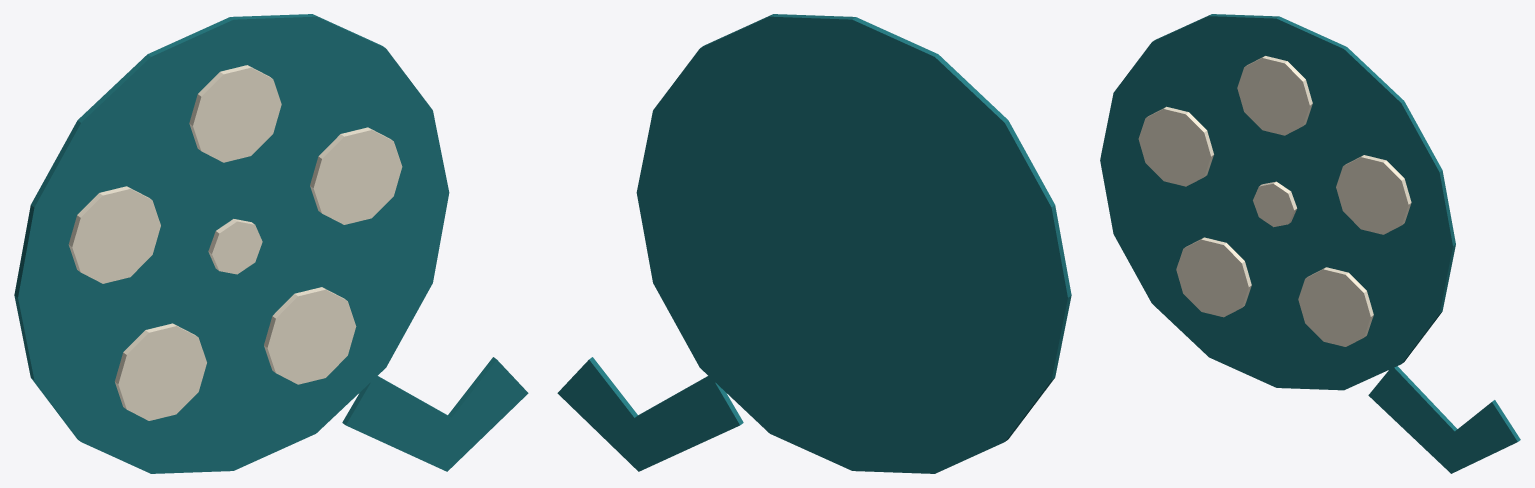
The model's file is icon_cinema.glb.
3 views of the same model, side by side, from view 1: azimuth 30°, elevation 25°; view 2: azimuth 150°, elevation 25°; view 3: azimuth 330°, elevation 25° (orthographic). The views are drawn at different scales.
Visible parts, largest first — view 1: icon_cinema; view 2: icon_cinema; view 3: icon_cinema.
Part boxes in pixels (<box>): icon_cinema: <box>14,14,528,473</box>; icon_cinema: <box>557,14,1071,473</box>; icon_cinema: <box>1100,14,1520,473</box>.
Bounding box in the file's own units: 0.4025 × 0.3799 × 0.01.
